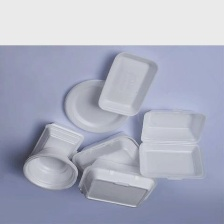foam_box: (133, 103, 211, 183), (95, 49, 163, 120), (74, 156, 161, 210), (59, 74, 135, 135), (69, 129, 149, 173), (20, 146, 80, 195), (25, 120, 86, 163)
